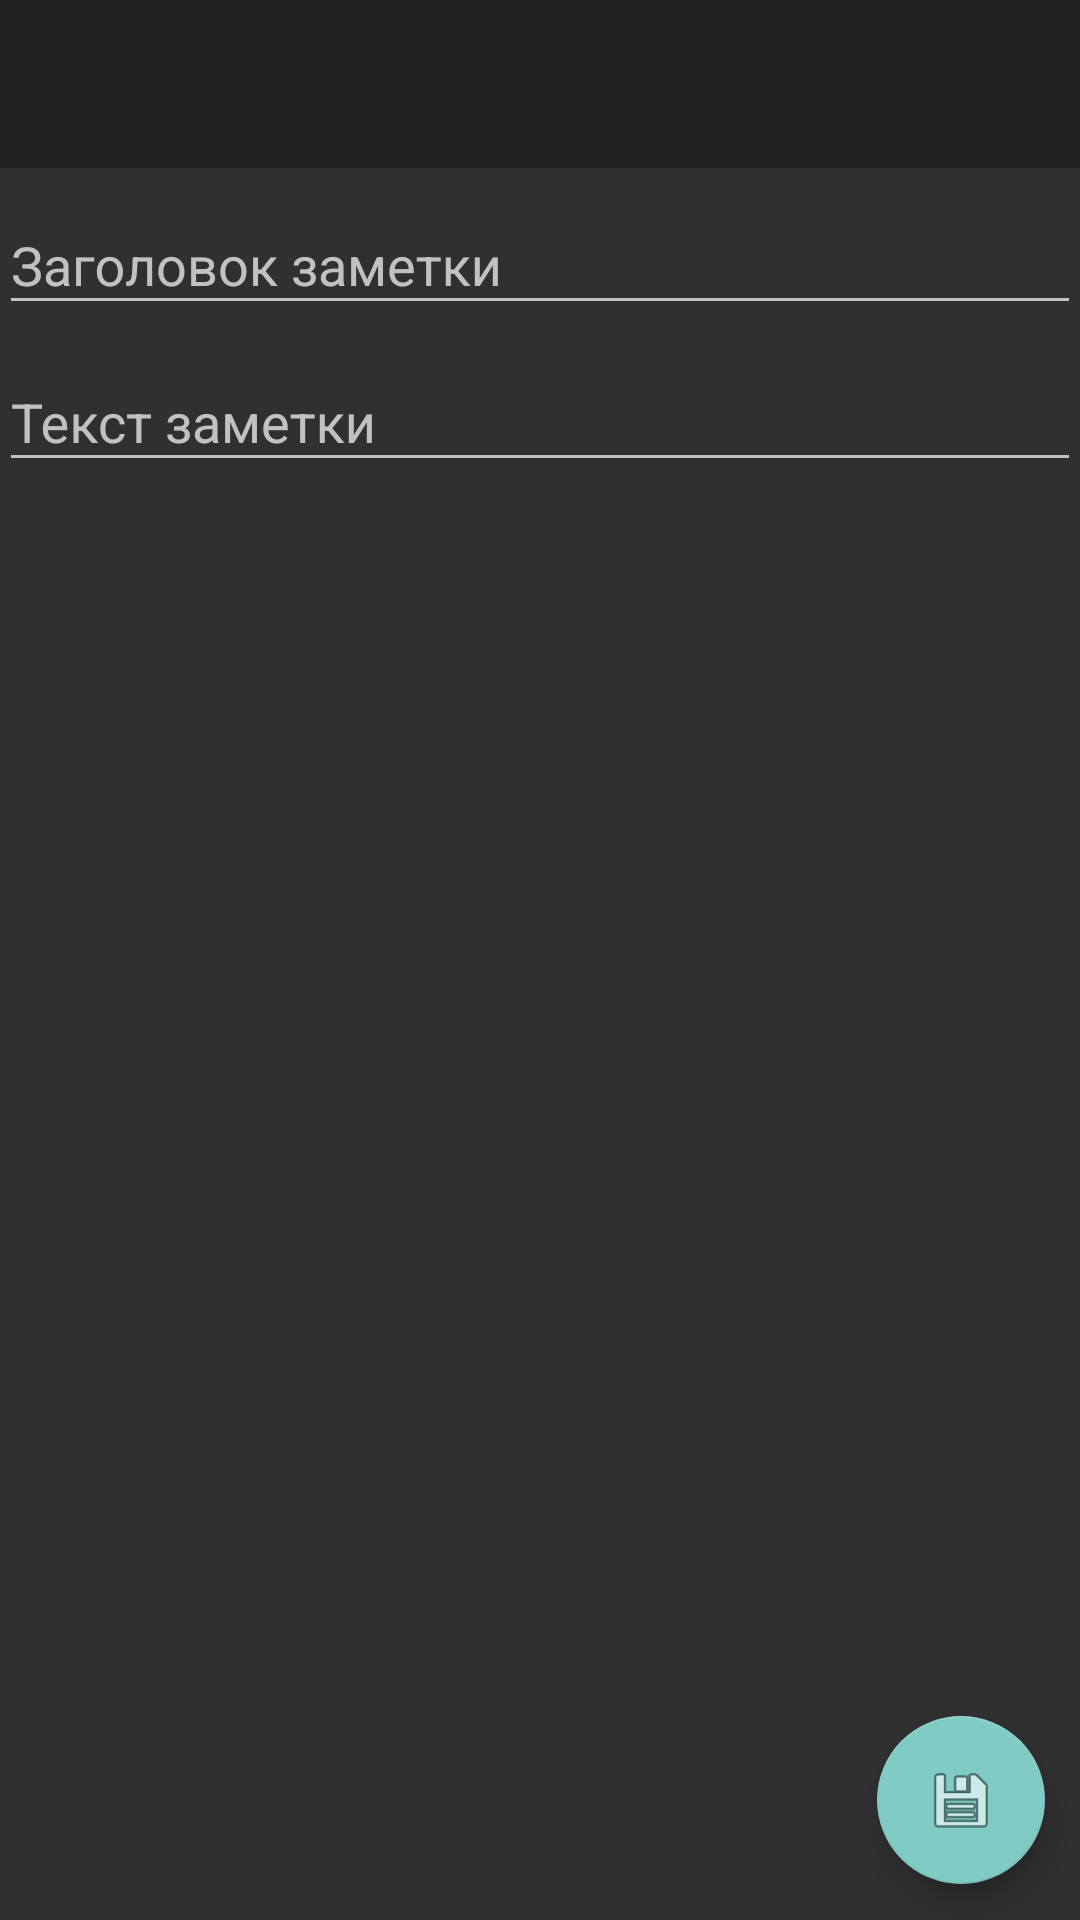

Screen size 1080*1920. Icon name, then its box in pixels as (x1, y1, x2, y2):
save: (877, 1716, 1045, 1884)
